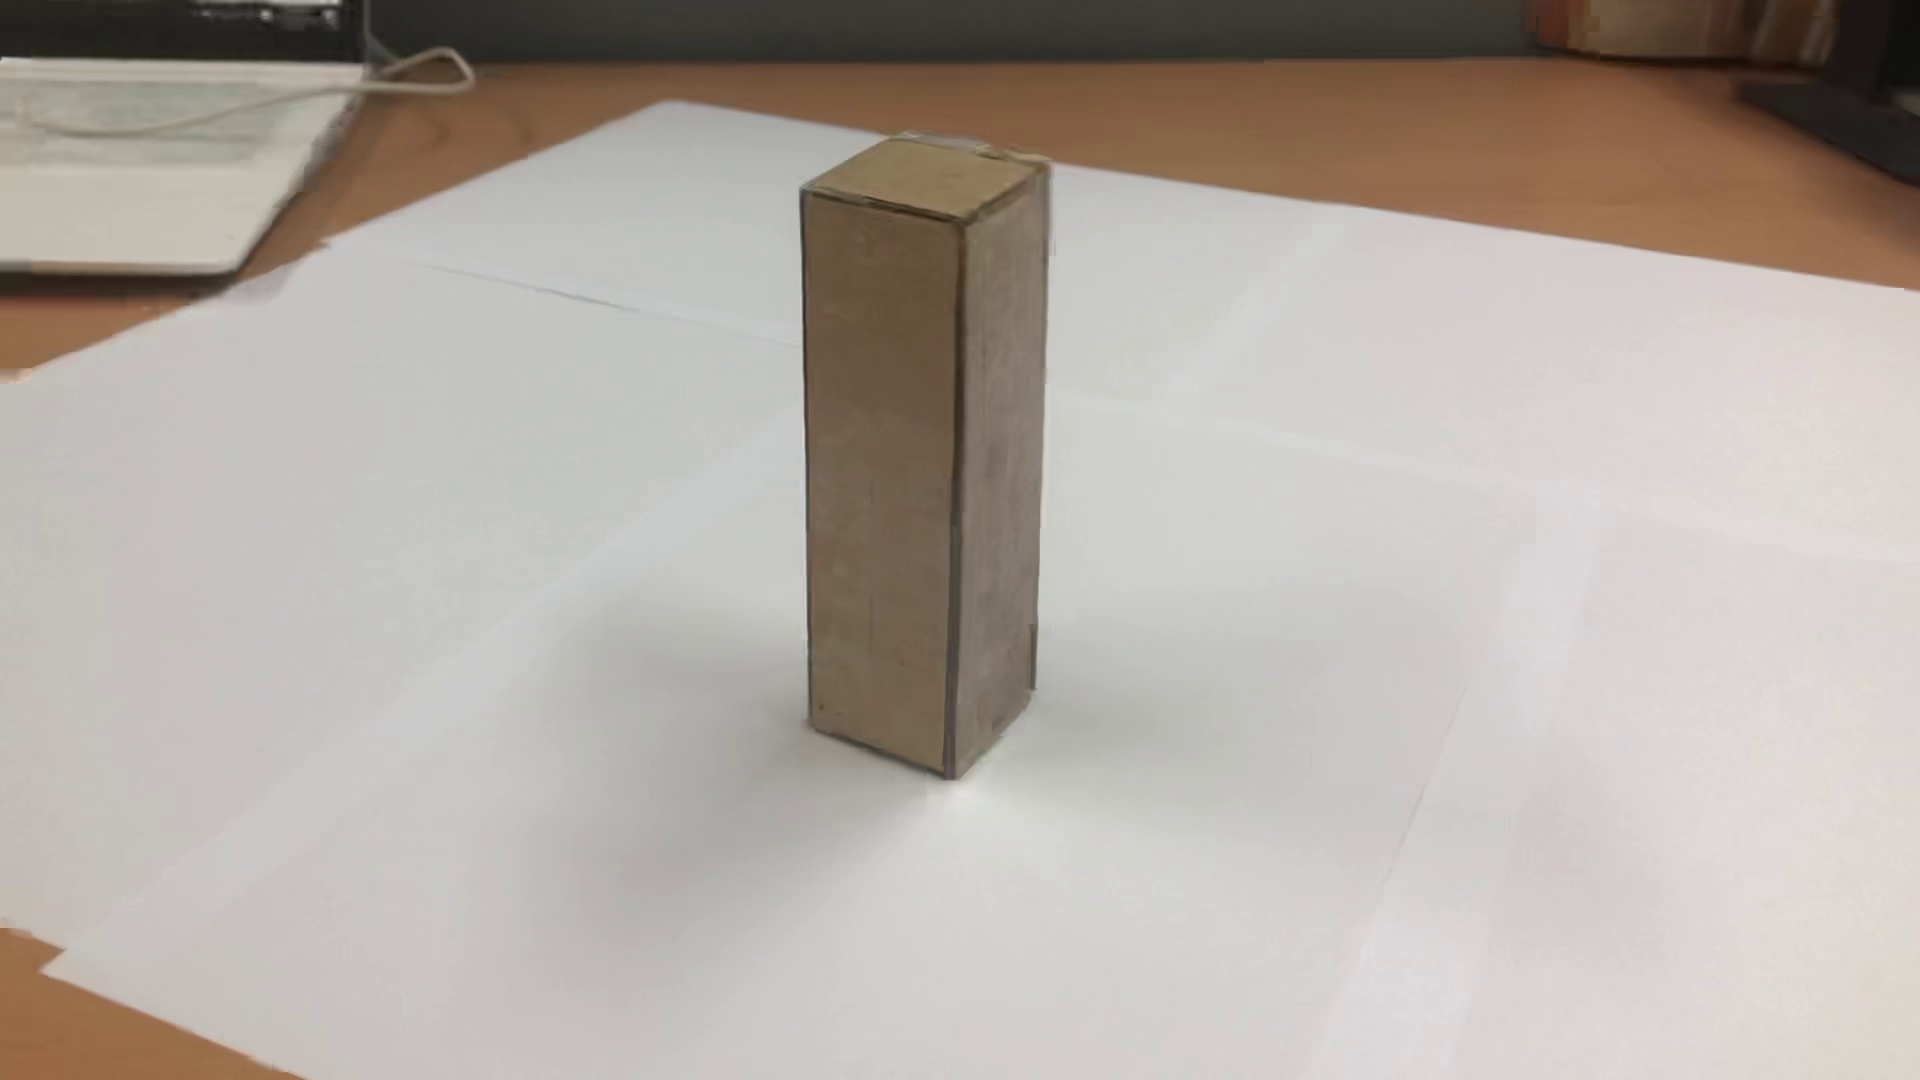box: (767, 109, 1101, 802)
